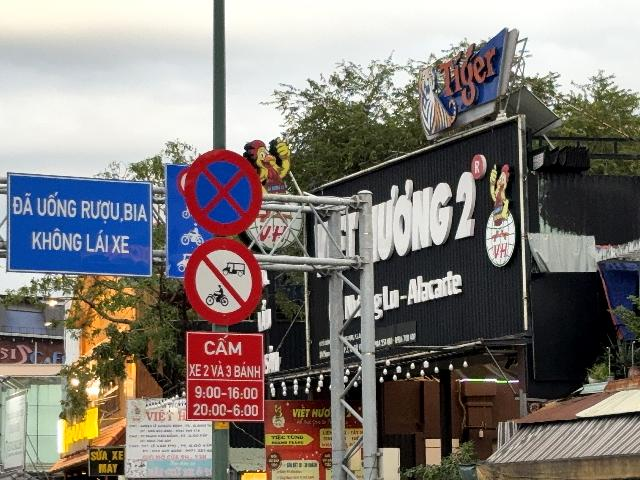cam-dung-va-do-xe: (183, 146, 264, 236)
cam-xe-2-banh-3-banh: (183, 237, 262, 326)
